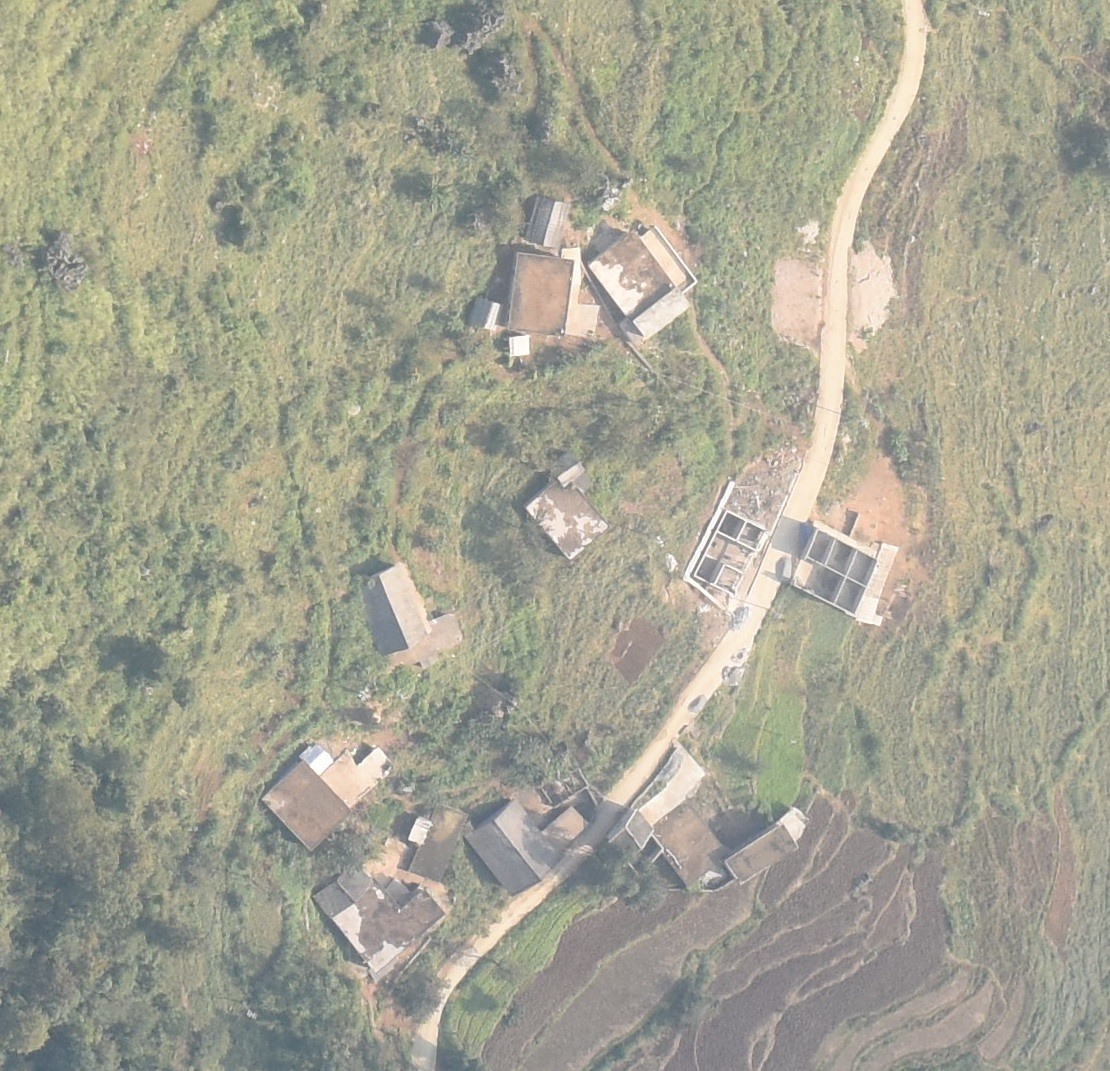building: (312, 873, 446, 973), (589, 228, 696, 341), (464, 798, 563, 897), (521, 461, 613, 558), (790, 527, 885, 620), (260, 759, 352, 852), (649, 803, 739, 891), (355, 561, 433, 654), (693, 507, 768, 595), (506, 251, 578, 337), (721, 820, 803, 886), (320, 749, 395, 811), (408, 803, 468, 880), (389, 614, 469, 670), (608, 808, 665, 877), (539, 808, 590, 859), (524, 198, 569, 245), (469, 296, 499, 334), (509, 335, 530, 357)
